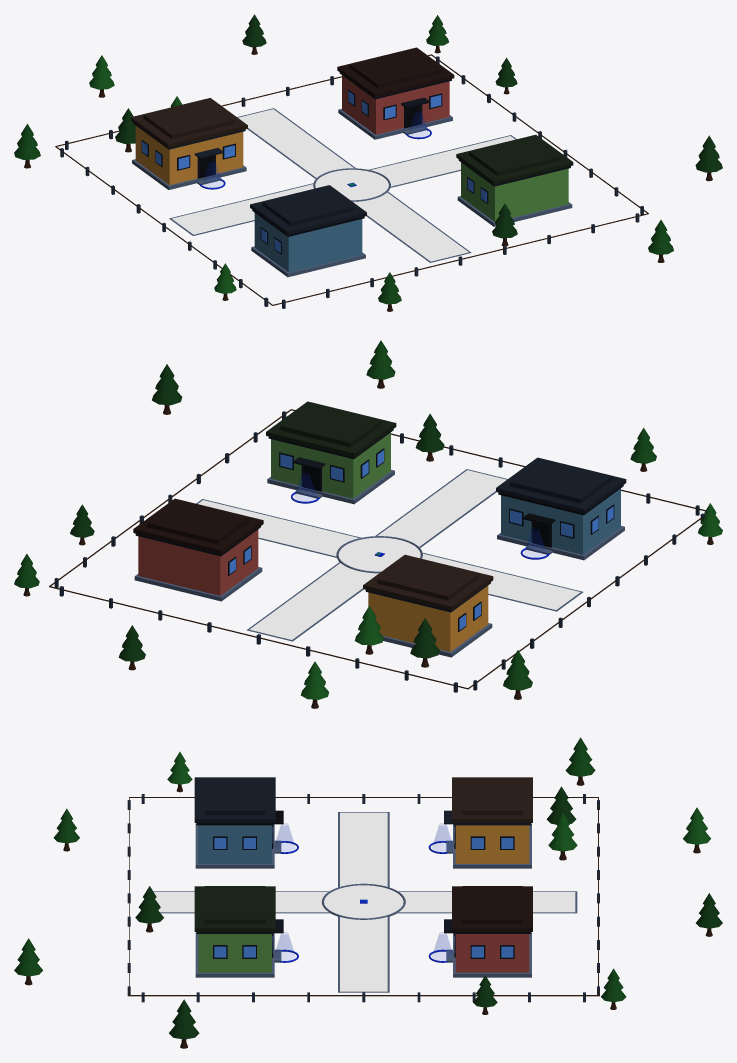
Rendered from campus-map.obj.
3 views of the same model, one above another, from view 1: azimuth 30°, elevation 25°; view 2: azimuth 150°, elevation 25°; view 3: azimuth 270°, elevation 25° (orthographic). The views are drawn at different scales.
Visible parts, largest first — view 1: Campus_Part_3, Campus_Part_1, Campus_Part_53, Campus_Part_76, Campus_Part_7, Campus_Part_30, Campus_Part_56, Campus_Part_79, Campus_Part_10, Campus_Part_33, Campus_Part_4, Campus_Part_32 (+10 smaller); view 2: Campus_Part_3, Campus_Part_1, Campus_Part_30, Campus_Part_7, Campus_Part_53, Campus_Part_76, Campus_Part_10, Campus_Part_33, Campus_Part_56, Campus_Part_79, Campus_Part_4, Campus_Part_9 (+9 smaller); view 3: Campus_Part_1, Campus_Part_3, Campus_Part_7, Campus_Part_30, Campus_Part_53, Campus_Part_76, Campus_Part_56, Campus_Part_79, Campus_Part_10, Campus_Part_33, Campus_Part_4, Campus_Part_55 (+10 smaller).
Part boxes in pixels (bbox=[...]): Campus_Part_3: bbox=[238, 109, 468, 261]; Campus_Part_1: bbox=[172, 136, 514, 234]; Campus_Part_53: bbox=[254, 213, 362, 272]; Campus_Part_76: bbox=[461, 162, 568, 221]; Campus_Part_7: bbox=[135, 126, 243, 185]; Campus_Part_30: bbox=[342, 75, 449, 134]; Campus_Part_56: bbox=[262, 186, 354, 226]; Campus_Part_79: bbox=[469, 136, 560, 175]; Campus_Part_10: bbox=[143, 99, 234, 138]; Campus_Part_33: bbox=[350, 49, 441, 88]; Campus_Part_4: bbox=[315, 169, 388, 200]; Campus_Part_32: bbox=[337, 47, 454, 97]; Campus_Part_3: bbox=[250, 470, 506, 639]; Campus_Part_1: bbox=[198, 500, 580, 609]; Campus_Part_30: bbox=[138, 529, 258, 595]; Campus_Part_7: bbox=[368, 585, 488, 651]; Campus_Part_53: bbox=[501, 488, 620, 554]; Campus_Part_76: bbox=[271, 432, 390, 498]; Campus_Part_10: bbox=[377, 556, 479, 600]; Campus_Part_33: bbox=[147, 500, 249, 544]; Campus_Part_56: bbox=[510, 459, 611, 503]; Campus_Part_79: bbox=[280, 403, 381, 447]; Campus_Part_4: bbox=[338, 537, 420, 571]; Campus_Part_9: bbox=[363, 554, 493, 610]; Campus_Part_1: bbox=[340, 812, 387, 991]; Campus_Part_3: bbox=[154, 892, 575, 912]; Campus_Part_7: bbox=[455, 825, 529, 863]; Campus_Part_30: bbox=[455, 934, 529, 972]; Campus_Part_53: bbox=[198, 825, 271, 863]; Campus_Part_76: bbox=[198, 934, 271, 972]; Campus_Part_56: bbox=[204, 777, 265, 814]; Campus_Part_79: bbox=[204, 886, 265, 923]; Campus_Part_10: bbox=[462, 777, 522, 814]; Campus_Part_33: bbox=[462, 886, 522, 923]; Campus_Part_4: bbox=[324, 885, 403, 918]; Campus_Part_55: bbox=[194, 777, 275, 822].
Size of what is drawn, in the model's own units: 70.94 by 6.64 by 77.09.
